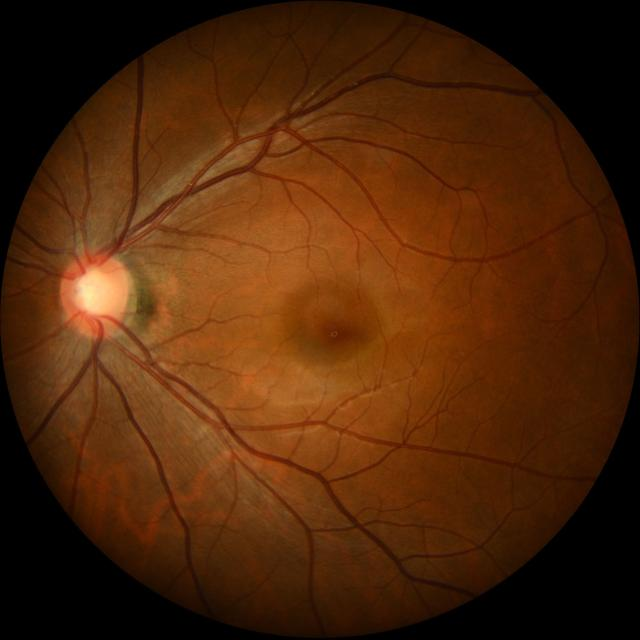OC: (73, 266, 116, 316)
OD: (60, 254, 129, 336)
